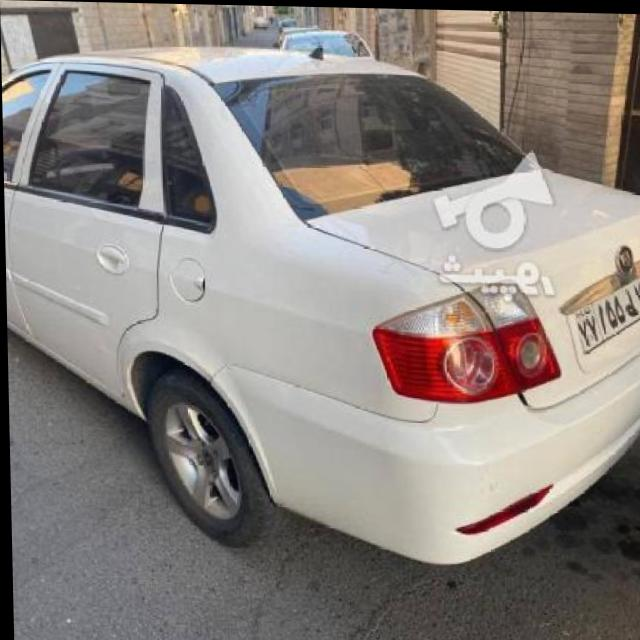licence: (577, 273, 640, 353)
